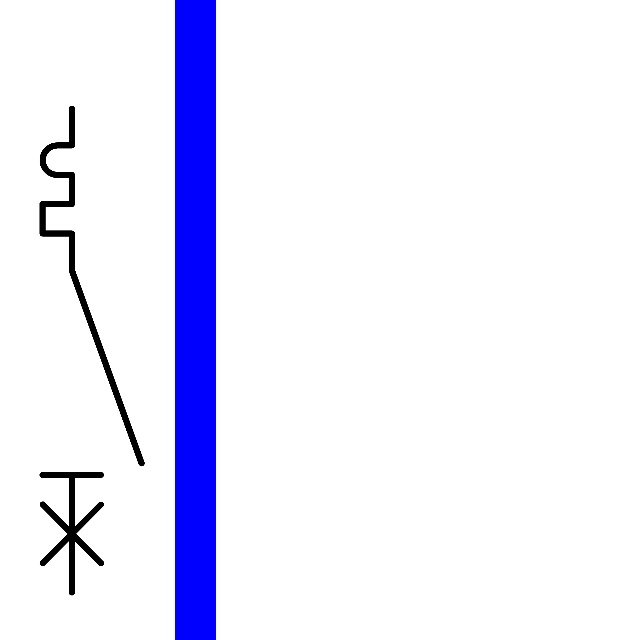interruptor_termomagnetico: (30, 96, 154, 605)
